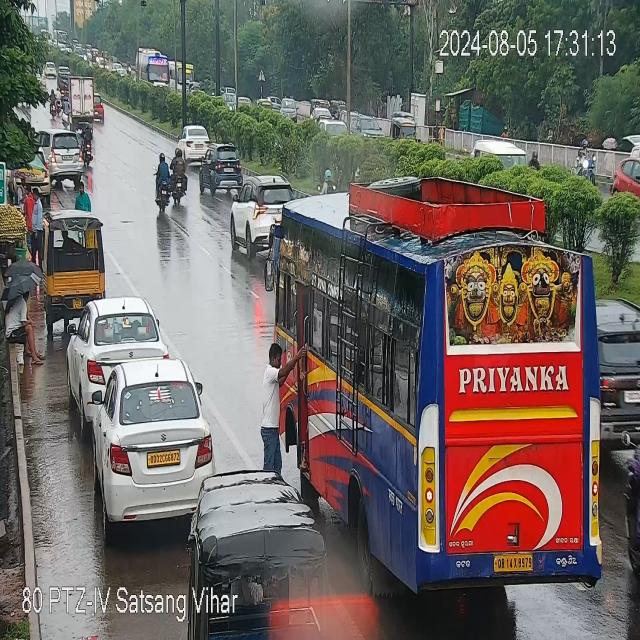2-wheelers: (156, 154, 170, 212), (173, 148, 185, 203), (579, 144, 594, 184), (81, 123, 94, 165), (52, 87, 64, 116), (48, 86, 58, 116)
auto: (190, 464, 299, 576), (48, 215, 98, 327)
bus: (272, 162, 610, 600), (135, 48, 168, 88)
car: (96, 350, 216, 517), (70, 292, 160, 412), (600, 299, 640, 456), (232, 173, 284, 249), (39, 123, 82, 171), (203, 144, 246, 190), (179, 124, 211, 164)
pedestrian: (263, 330, 293, 470), (1, 281, 46, 370), (31, 190, 43, 268), (75, 176, 92, 213), (22, 183, 34, 232)
truck: (68, 68, 96, 128)
